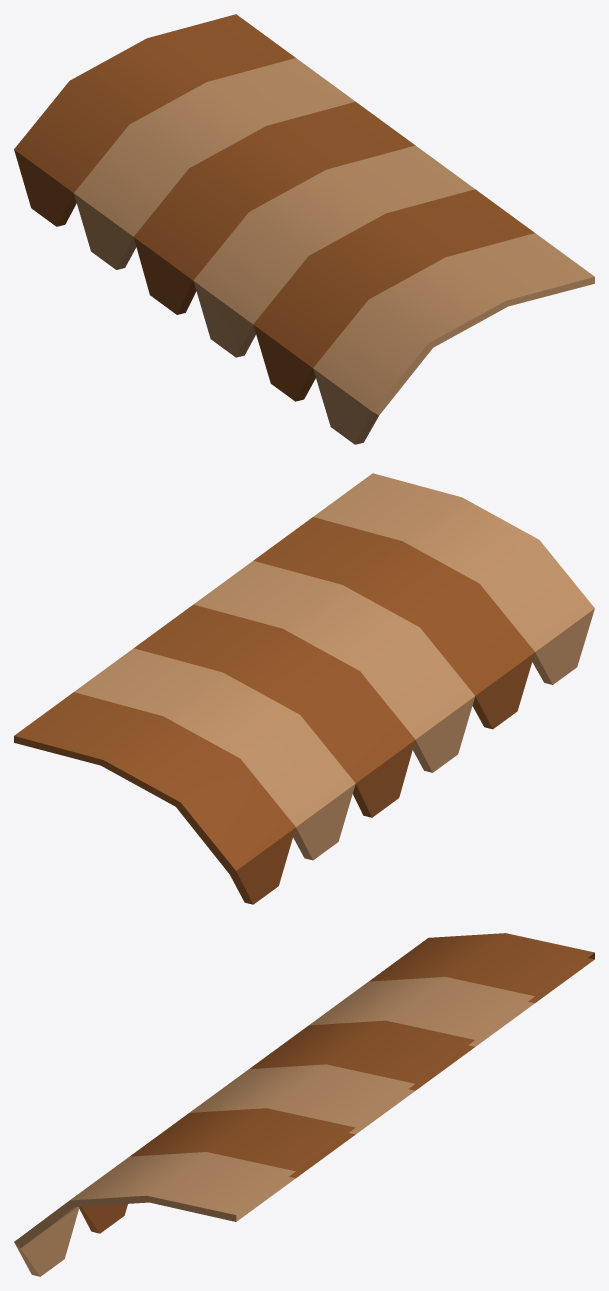
File: Awning_3_G.fbx
The picture shows the model from 3 angles, top to bottom: view 1: azimuth 30°, elevation 25°; view 2: azimuth 150°, elevation 25°; view 3: azimuth 330°, elevation 25°; orthographic projection.
Visible parts, largest first — view 1: Awning_3_G; view 2: Awning_3_G; view 3: Awning_3_G.
Boxes of the visible parts, left/top/right/bottom form: Awning_3_G: left=14, top=14, right=594, bottom=444; Awning_3_G: left=14, top=473, right=594, bottom=904; Awning_3_G: left=14, top=933, right=594, bottom=1276.
Bounding box in the file's own units: 99.94 × 54.72 × 280.
